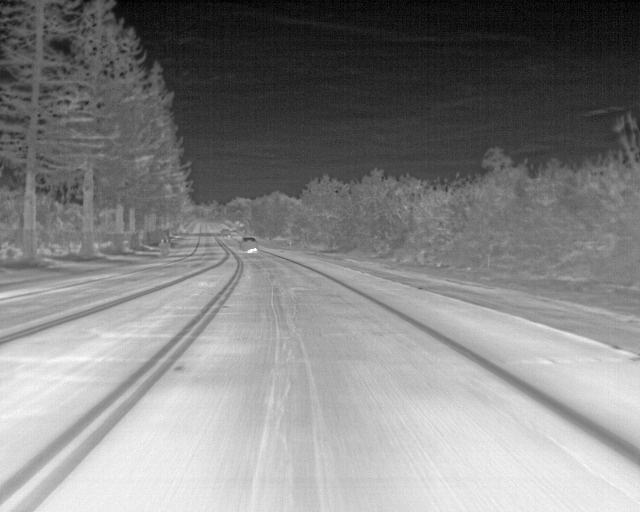car: (237, 236, 259, 253), (219, 226, 233, 241)
